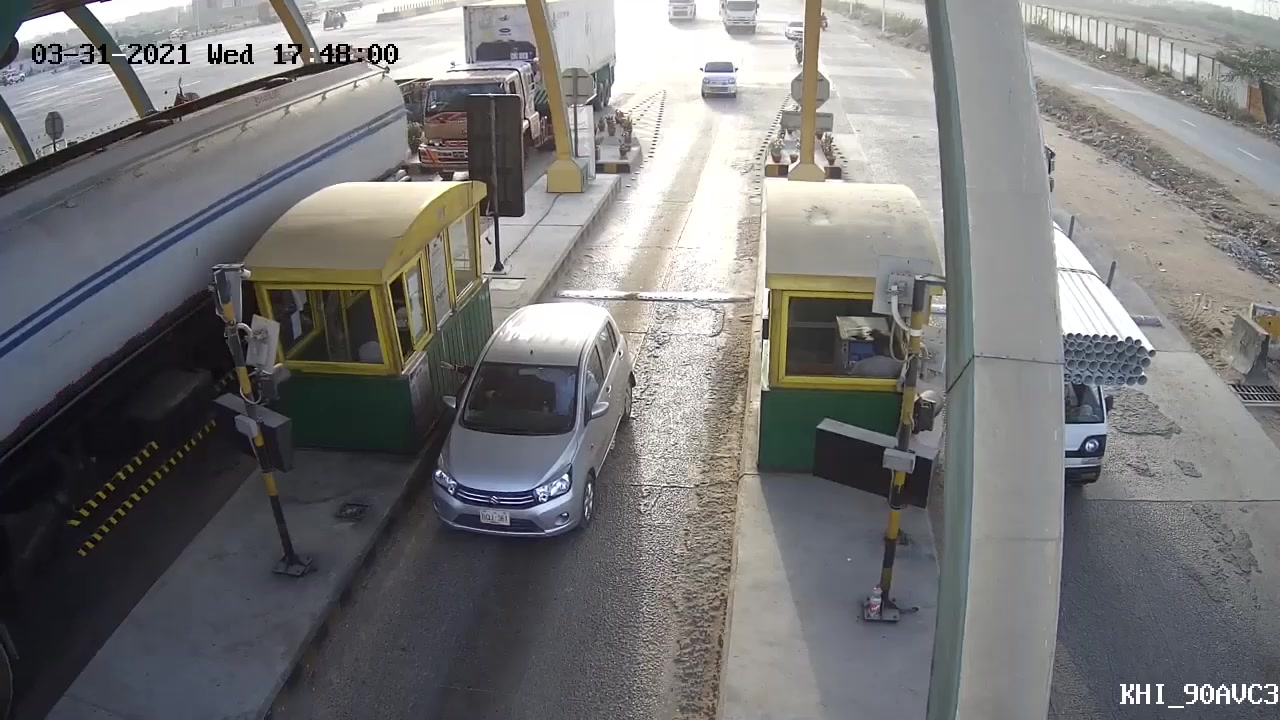F1: (414, 295, 640, 556)
